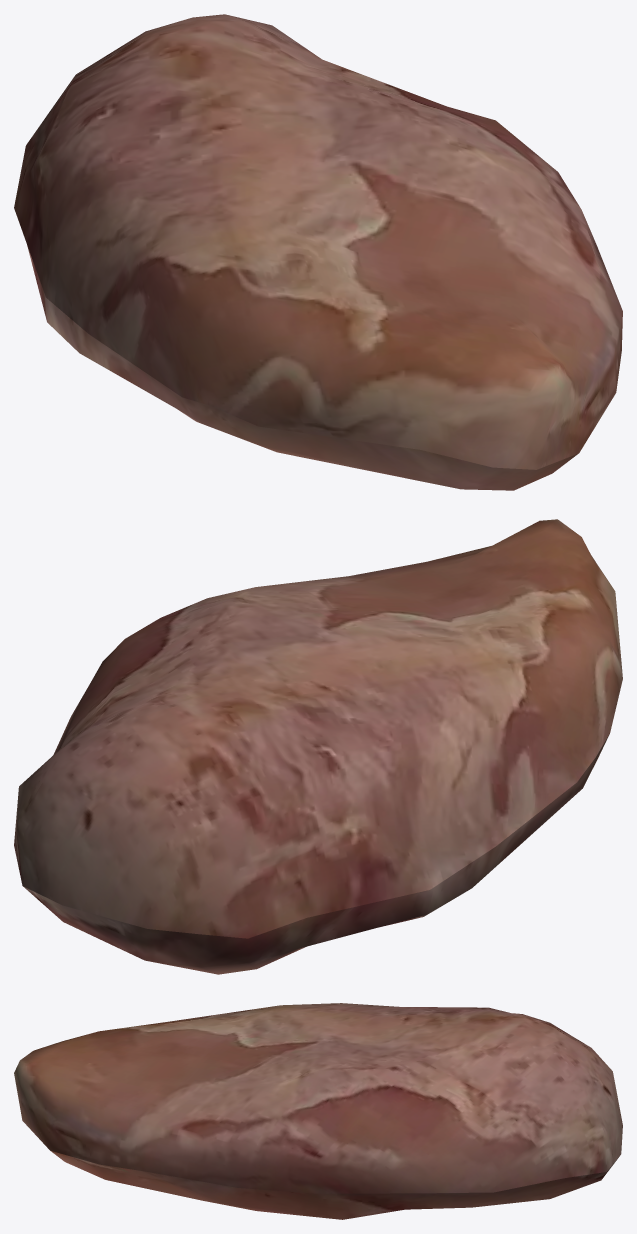
Rendered from chicken.oven.glb.
3 views of the same model, one above another, from view 1: azimuth 30°, elevation 25°; view 2: azimuth 150°, elevation 25°; view 3: azimuth 270°, elevation 25° (orthographic). The views are drawn at different scales.
Parts seen in each view (by area): view 1: chicken.oven; view 2: chicken.oven; view 3: chicken.oven.
Part boxes in pixels (<box>): chicken.oven: <box>14,14,622,490</box>; chicken.oven: <box>14,519,622,974</box>; chicken.oven: <box>14,1003,622,1219</box>.
Bounding box in the file's own units: 0.1386 × 0.0738 × 0.2512.
Materials: 1 (1 with a texture image).
